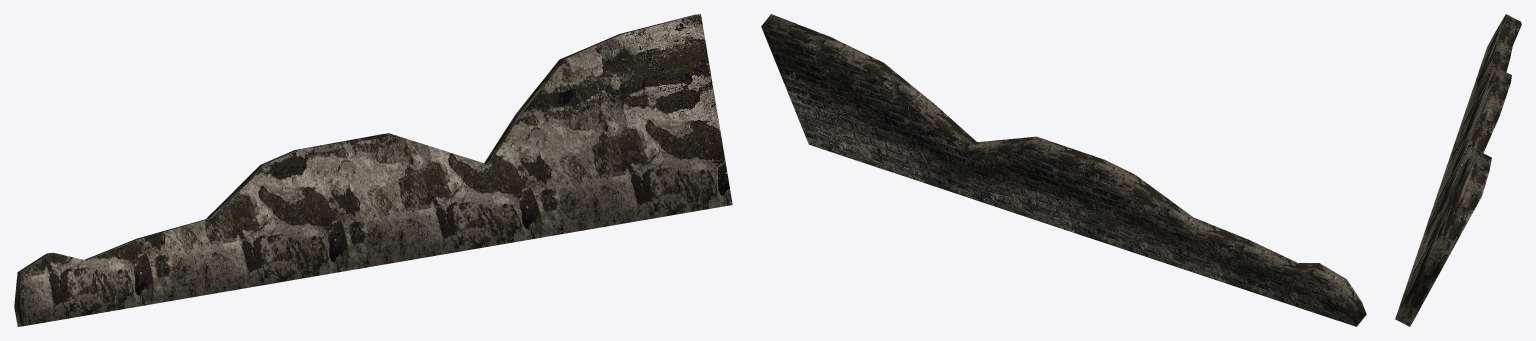
Rendered from KM_VOB_CASTLEROCK_01.glb.
3 renders of one model, left to right at view 1: azimuth 30°, elevation 25°; view 2: azimuth 150°, elevation 25°; view 3: azimuth 270°, elevation 25°, orthographic. The views are drawn at different scales.
Visible parts, largest first — view 1: Mesh; view 2: Mesh; view 3: Mesh.
Boxes of the visible parts, x1,y1,x2,y2 form: Mesh: [14, 14, 732, 326]; Mesh: [761, 14, 1366, 326]; Mesh: [1395, 14, 1521, 326].
Bounding box in the file's own units: 14.62 × 3.49 × 2.82.
Materials: 2 (2 with a texture image).
